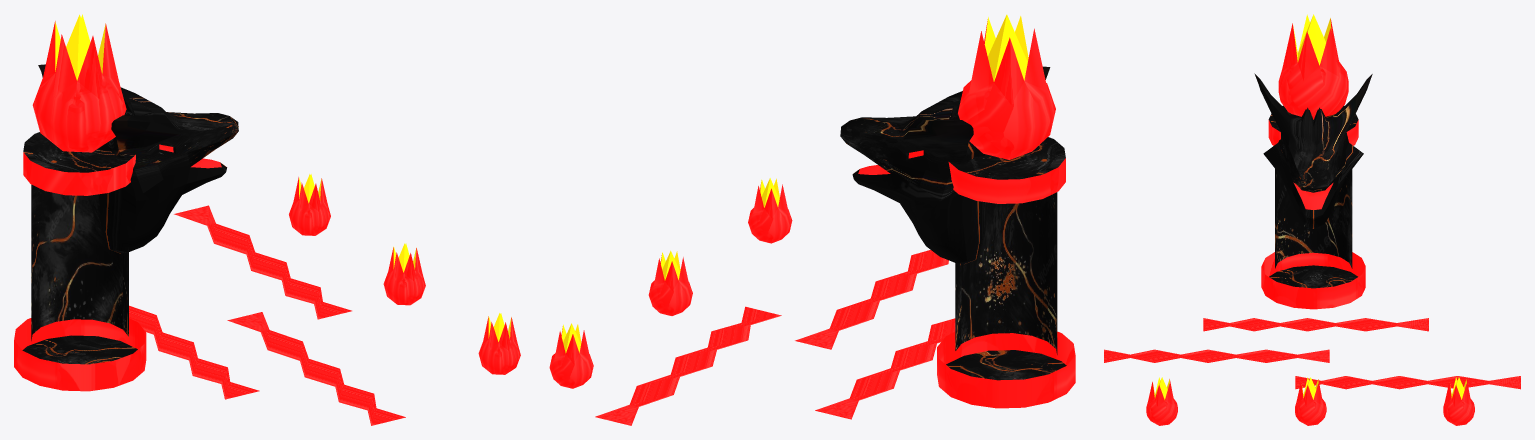
File: track3Edge.glb
The picture shows the model from 3 angles, left to right: view 1: azimuth 30°, elevation 25°; view 2: azimuth 150°, elevation 25°; view 3: azimuth 270°, elevation 25°; orthographic projection. The views are drawn at different scales.
Parts seen in each view (by area): view 1: Cylinder.005; view 2: Cylinder.005; view 3: Cylinder.005.
Boxes of the visible parts, x1,y1,x2,y2 form: Cylinder.005: (14,14,520,425); Cylinder.005: (549,14,1075,425); Cylinder.005: (1104,14,1520,425).
Bounding box in the file's own units: 1.87 × 1.64 × 2.16.
Materials: 3 (2 with a texture image).
